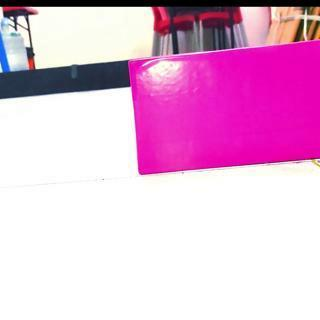xparking: (131, 61, 320, 168)
